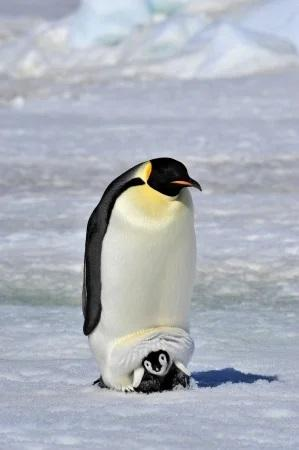emporer: (74, 150, 220, 404)
